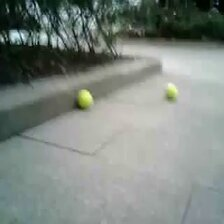tennis: (76, 88, 95, 107), (164, 82, 178, 98)
